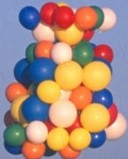Balloon: (80, 104, 110, 133), (83, 61, 112, 90), (54, 61, 83, 89), (49, 99, 78, 127), (47, 128, 70, 151), (69, 127, 91, 151), (26, 121, 48, 145), (75, 6, 97, 29), (72, 40, 94, 63), (37, 80, 59, 102), (5, 122, 25, 146), (21, 140, 46, 159), (19, 7, 40, 29), (54, 6, 75, 28), (51, 42, 73, 62), (6, 82, 27, 100), (40, 3, 57, 24), (35, 41, 52, 59)
